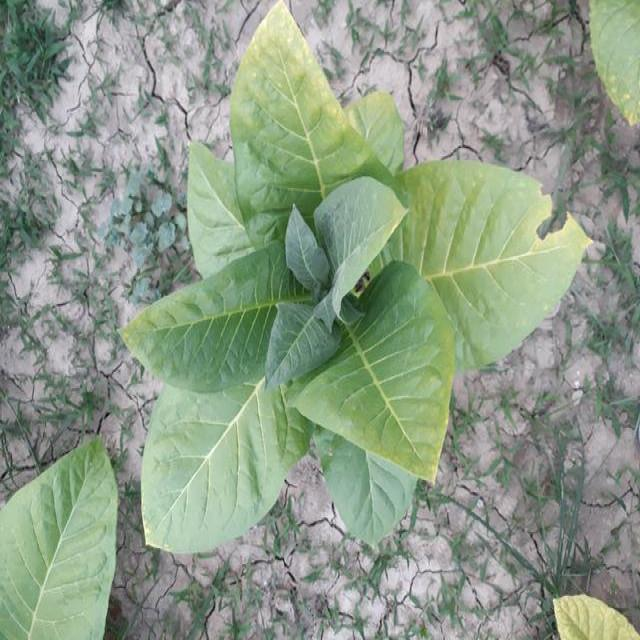crop: (147, 0, 592, 552), (0, 441, 109, 640), (574, 0, 640, 126), (548, 577, 639, 640)
